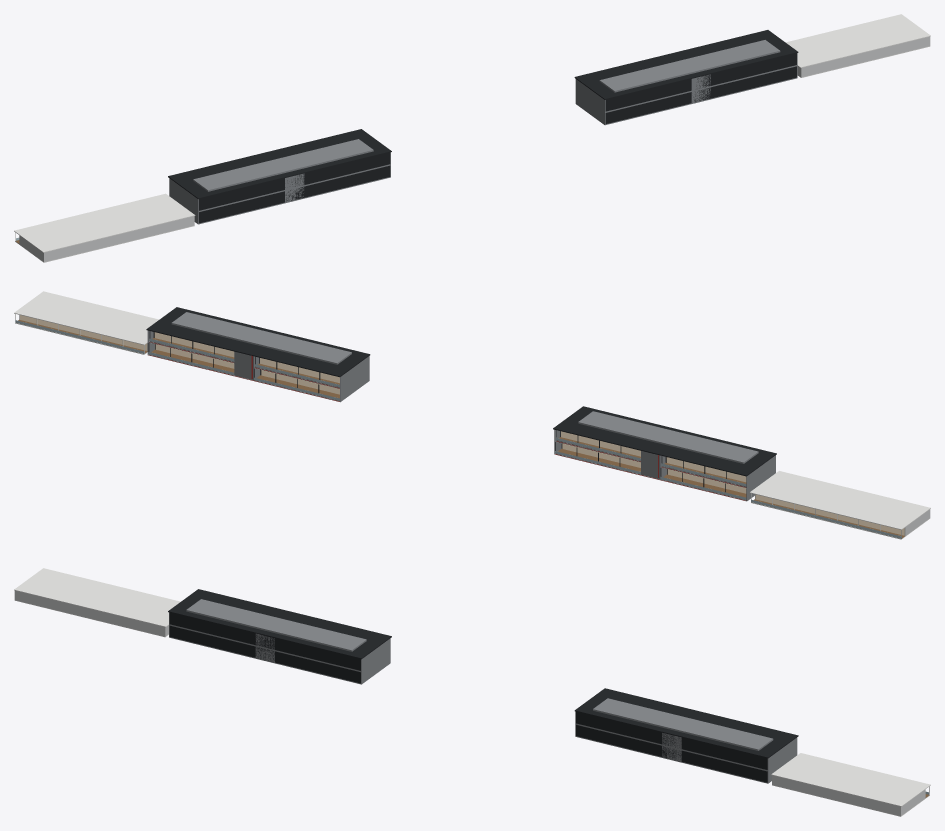
The model's file is mad_pit_upper.glb.
3 renders of one model, top to bottom at view 1: azimuth 30°, elevation 25°; view 2: azimuth 150°, elevation 25°; view 3: azimuth 330°, elevation 25°, orthographic.
Visible parts, largest first — view 1: madring-pit-buildings; view 2: madring-pit-buildings; view 3: madring-pit-buildings.
Boxes of the visible parts, bbox=[...] form: madring-pit-buildings: bbox=[14, 14, 930, 262]; madring-pit-buildings: bbox=[14, 291, 930, 539]; madring-pit-buildings: bbox=[14, 568, 930, 816].
Bounding box in the file's own units: 413 × 12.8 × 24.4.
